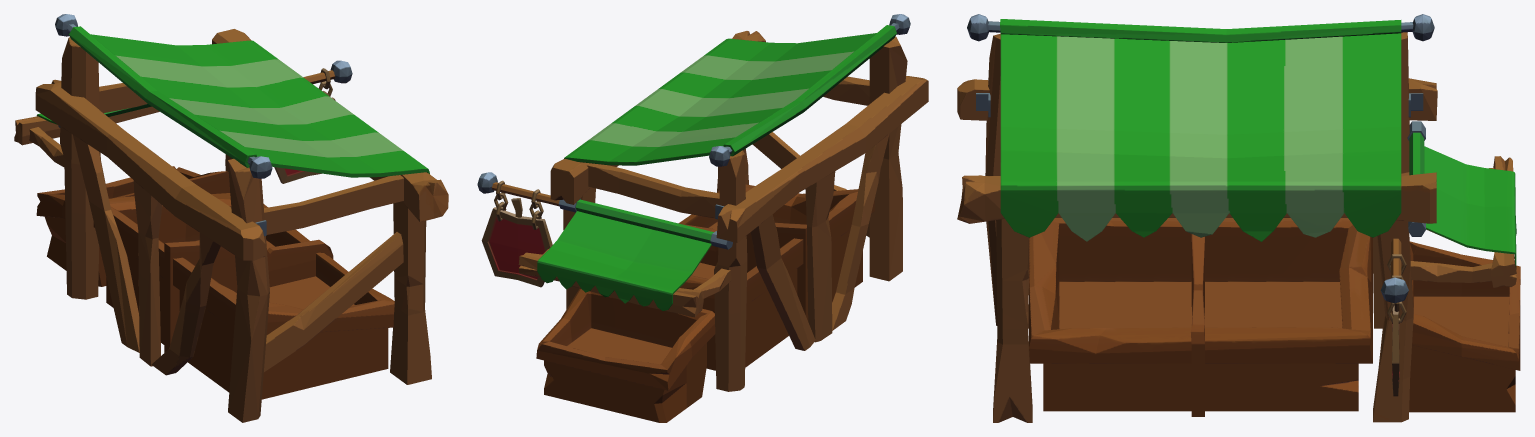
File: tent03.obj
The picture shows the model from 3 angles, left to right: view 1: azimuth 30°, elevation 25°; view 2: azimuth 150°, elevation 25°; view 3: azimuth 270°, elevation 25°; orthographic projection. The views are drawn at different scales.
Visible parts, largest first — view 1: tent03; view 2: tent03; view 3: tent03.
Boxes of the visible parts, x1,y1,x2,y2 form: tent03: (14,14,448,422); tent03: (477,14,928,422); tent03: (957,14,1520,422).
Bounding box in the file's own units: 0.048 × 0.0425 × 0.0691.
